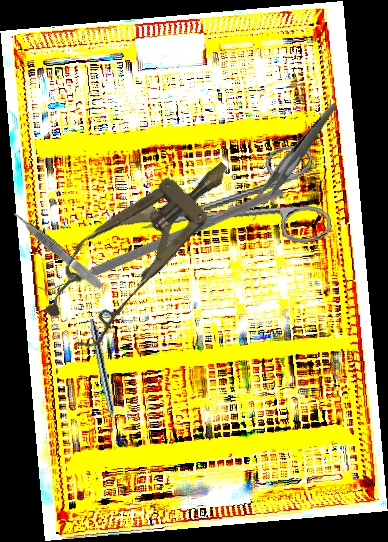Chopper: (26, 99, 285, 373)
Dressing Forceps: (220, 102, 364, 224)
Handpiece: (86, 318, 120, 432)
Iris Scissors: (131, 141, 334, 268)
Speculum: (28, 132, 256, 358)
Tissue Forceps: (11, 208, 105, 292)
